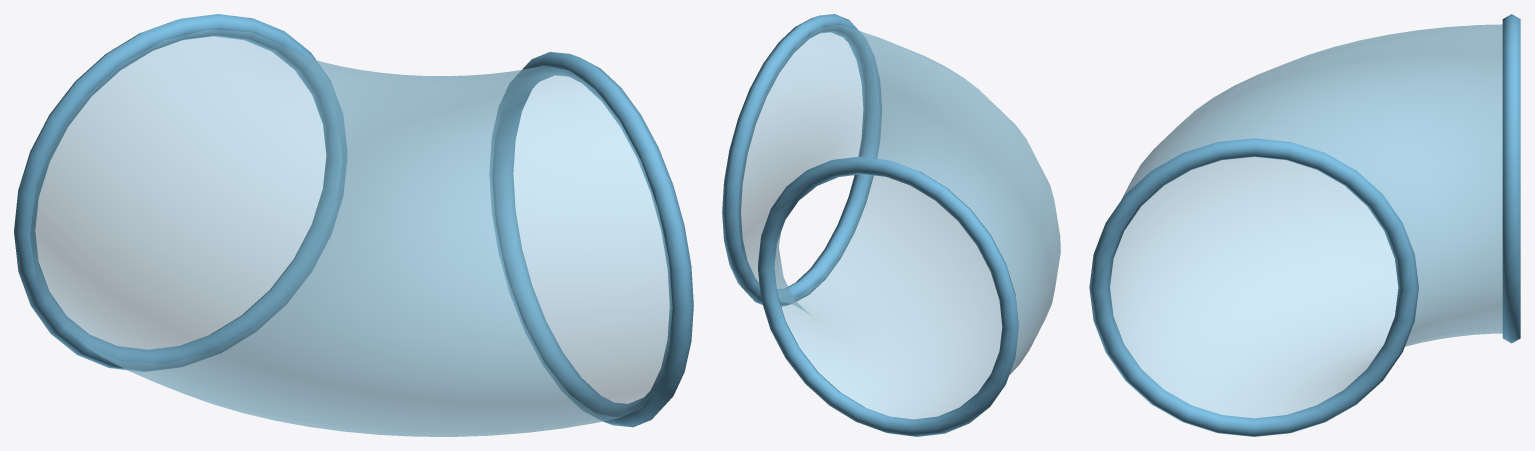
File: tube_corner.glb
3 views of the same model, side by side, from view 1: azimuth 30°, elevation 25°; view 2: azimuth 150°, elevation 25°; view 3: azimuth 270°, elevation 25° (orthographic). The views are drawn at different scales.
Visible parts, largest first — view 1: tube_body, tube_rims; view 2: tube_body, tube_rims; view 3: tube_body, tube_rims.
Boxes of the visible parts, bbox=[...] form: tube_body: bbox=[30, 29, 672, 436]; tube_rims: bbox=[14, 14, 693, 427]; tube_body: bbox=[738, 25, 1060, 419]; tube_rims: bbox=[722, 14, 1018, 436]; tube_body: bbox=[1110, 24, 1502, 418]; tube_rims: bbox=[1089, 14, 1520, 436].
Bounding box in the file's own units: 0.8373 × 0.64 × 0.8373.
